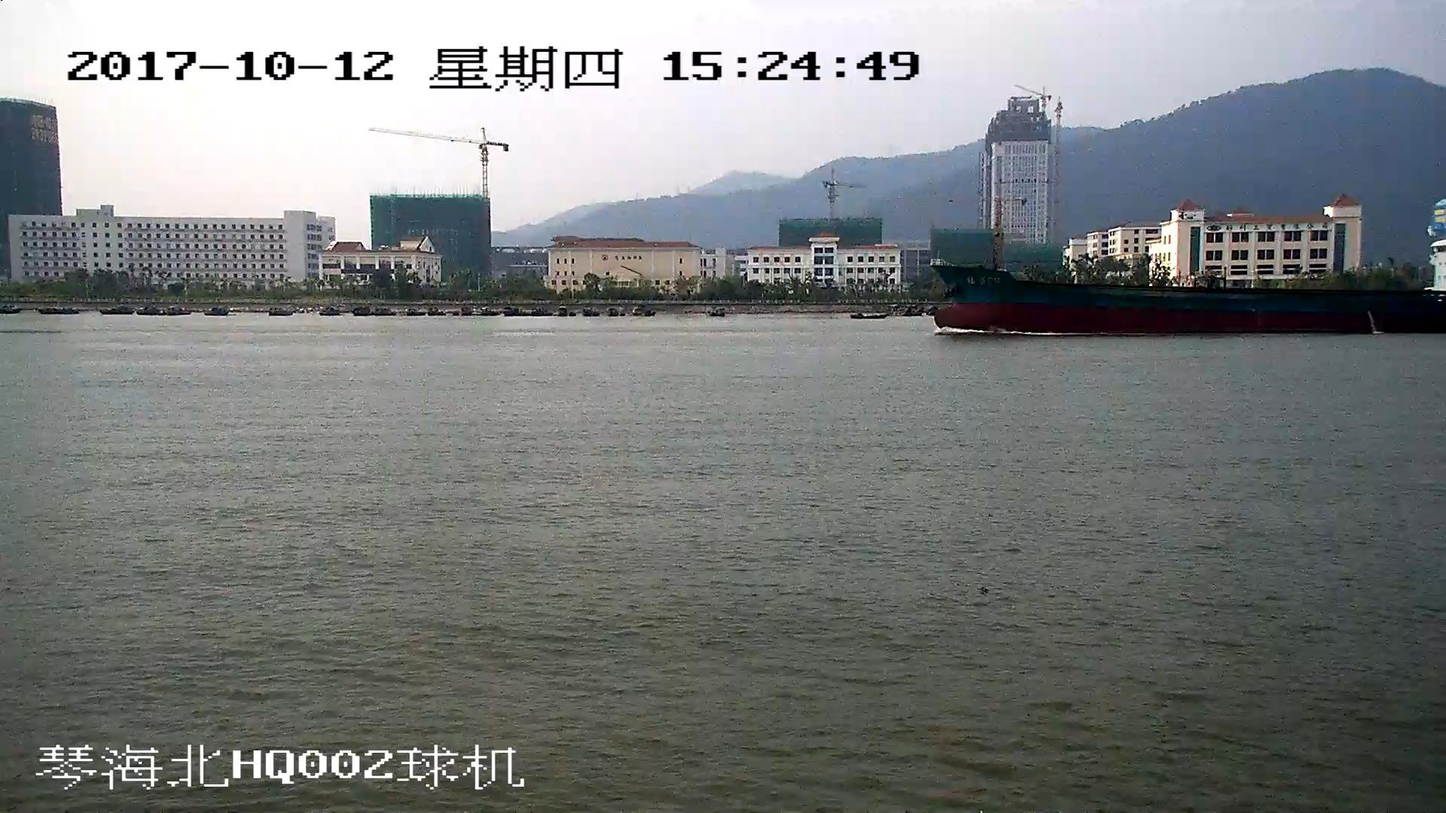general cargo ship: (927, 254, 1445, 333)
